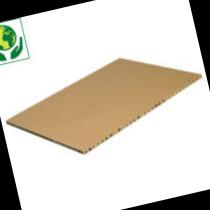Kertas: (7, 58, 200, 152)
